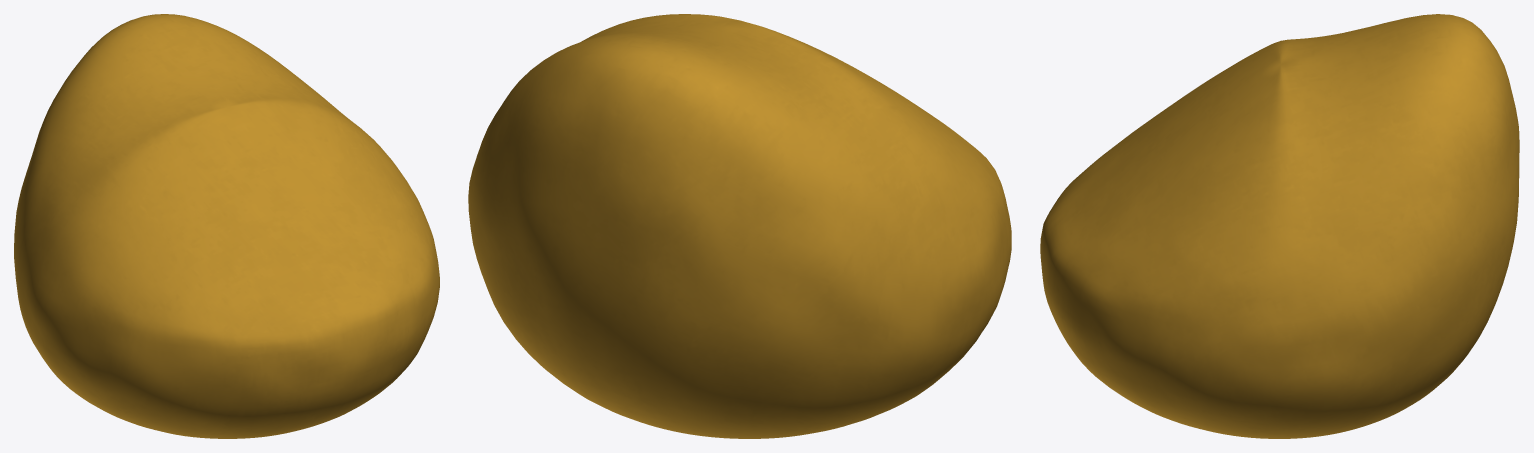
Rendered from chair-mustard.glb.
3 views of the same model, side by side, from view 1: azimuth 30°, elevation 25°; view 2: azimuth 150°, elevation 25°; view 3: azimuth 270°, elevation 25° (orthographic). The views are drawn at different scales.
Visible parts, largest first — view 1: fabric_primary; view 2: fabric_primary; view 3: fabric_primary.
Part boxes in pixels (bbox=[...]): fabric_primary: bbox=[14, 14, 439, 438]; fabric_primary: bbox=[468, 14, 1011, 438]; fabric_primary: bbox=[1040, 14, 1519, 438].
Size of the model in its own units: 0.9615 by 0.8297 by 0.9572.
Materials: 1 (1 with a texture image).
